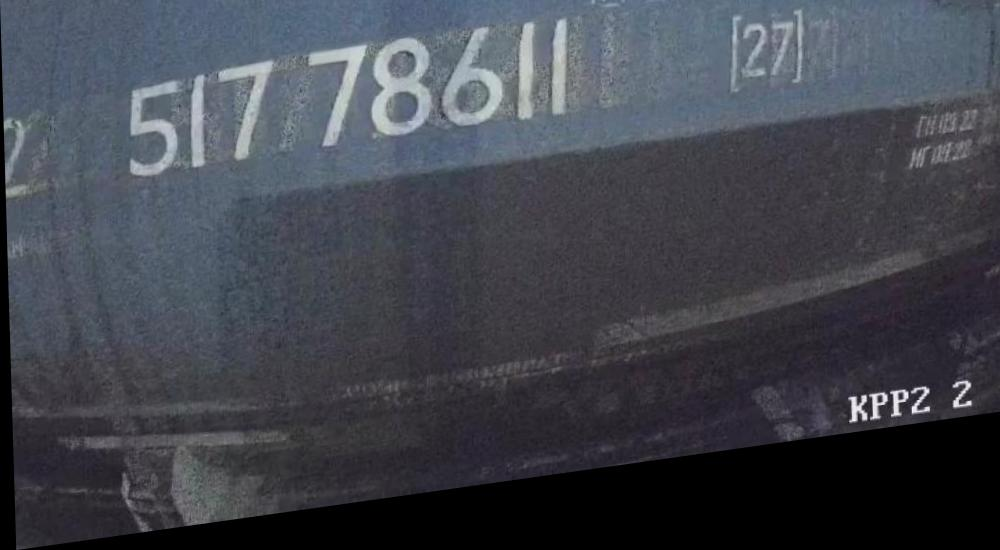Wagon-number: (120, 27, 577, 191)
